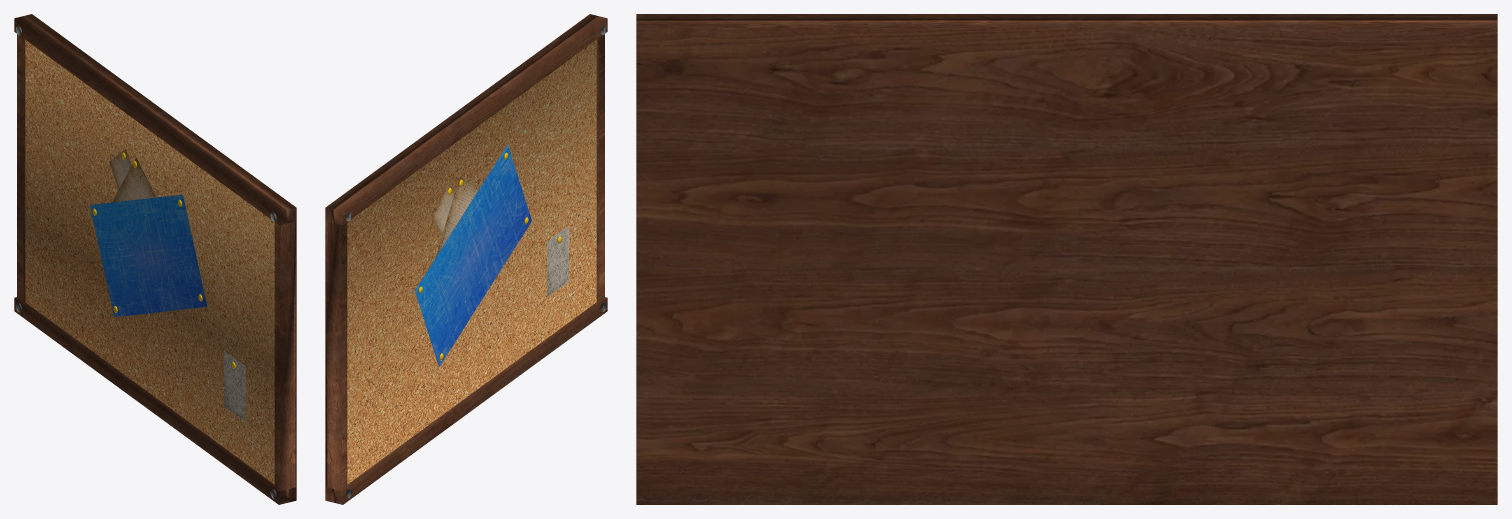
Rendered from bulletin.glb.
3 renders of one model, left to right at view 1: azimuth 30°, elevation 25°; view 2: azimuth 150°, elevation 25°; view 3: azimuth 270°, elevation 25°, orthographic. The views are drawn at different scales.
Visible parts, largest first — view 1: Cube, Plane.002, Plane, Plane.003; view 2: Cube, Plane.002, Plane, Plane.003; view 3: Cube.
Part boxes in pixels (x1=…): Cube: x1=14, y1=14, x2=296, y2=504; Plane.002: x1=90, y1=194, x2=207, y2=317; Plane: x1=109, y1=149, x2=156, y2=202; Plane.003: x1=224, y1=351, x2=245, y2=422; Cube: x1=325, y1=14, x2=607, y2=504; Plane.002: x1=415, y1=144, x2=531, y2=367; Plane: x1=432, y1=176, x2=480, y2=258; Plane.003: x1=547, y1=226, x2=568, y2=297; Cube: x1=636, y1=14, x2=1497, y2=504.
Size of the model in its own units: 0.4639 by 6.82 by 11.16.
7 materials, 7 textured.
